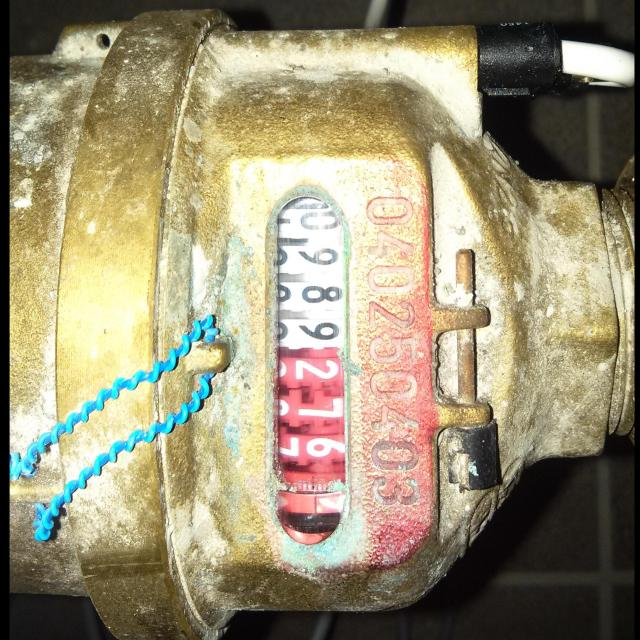gaz_meter: (204, 22, 485, 614)
indication: (275, 201, 351, 525)
